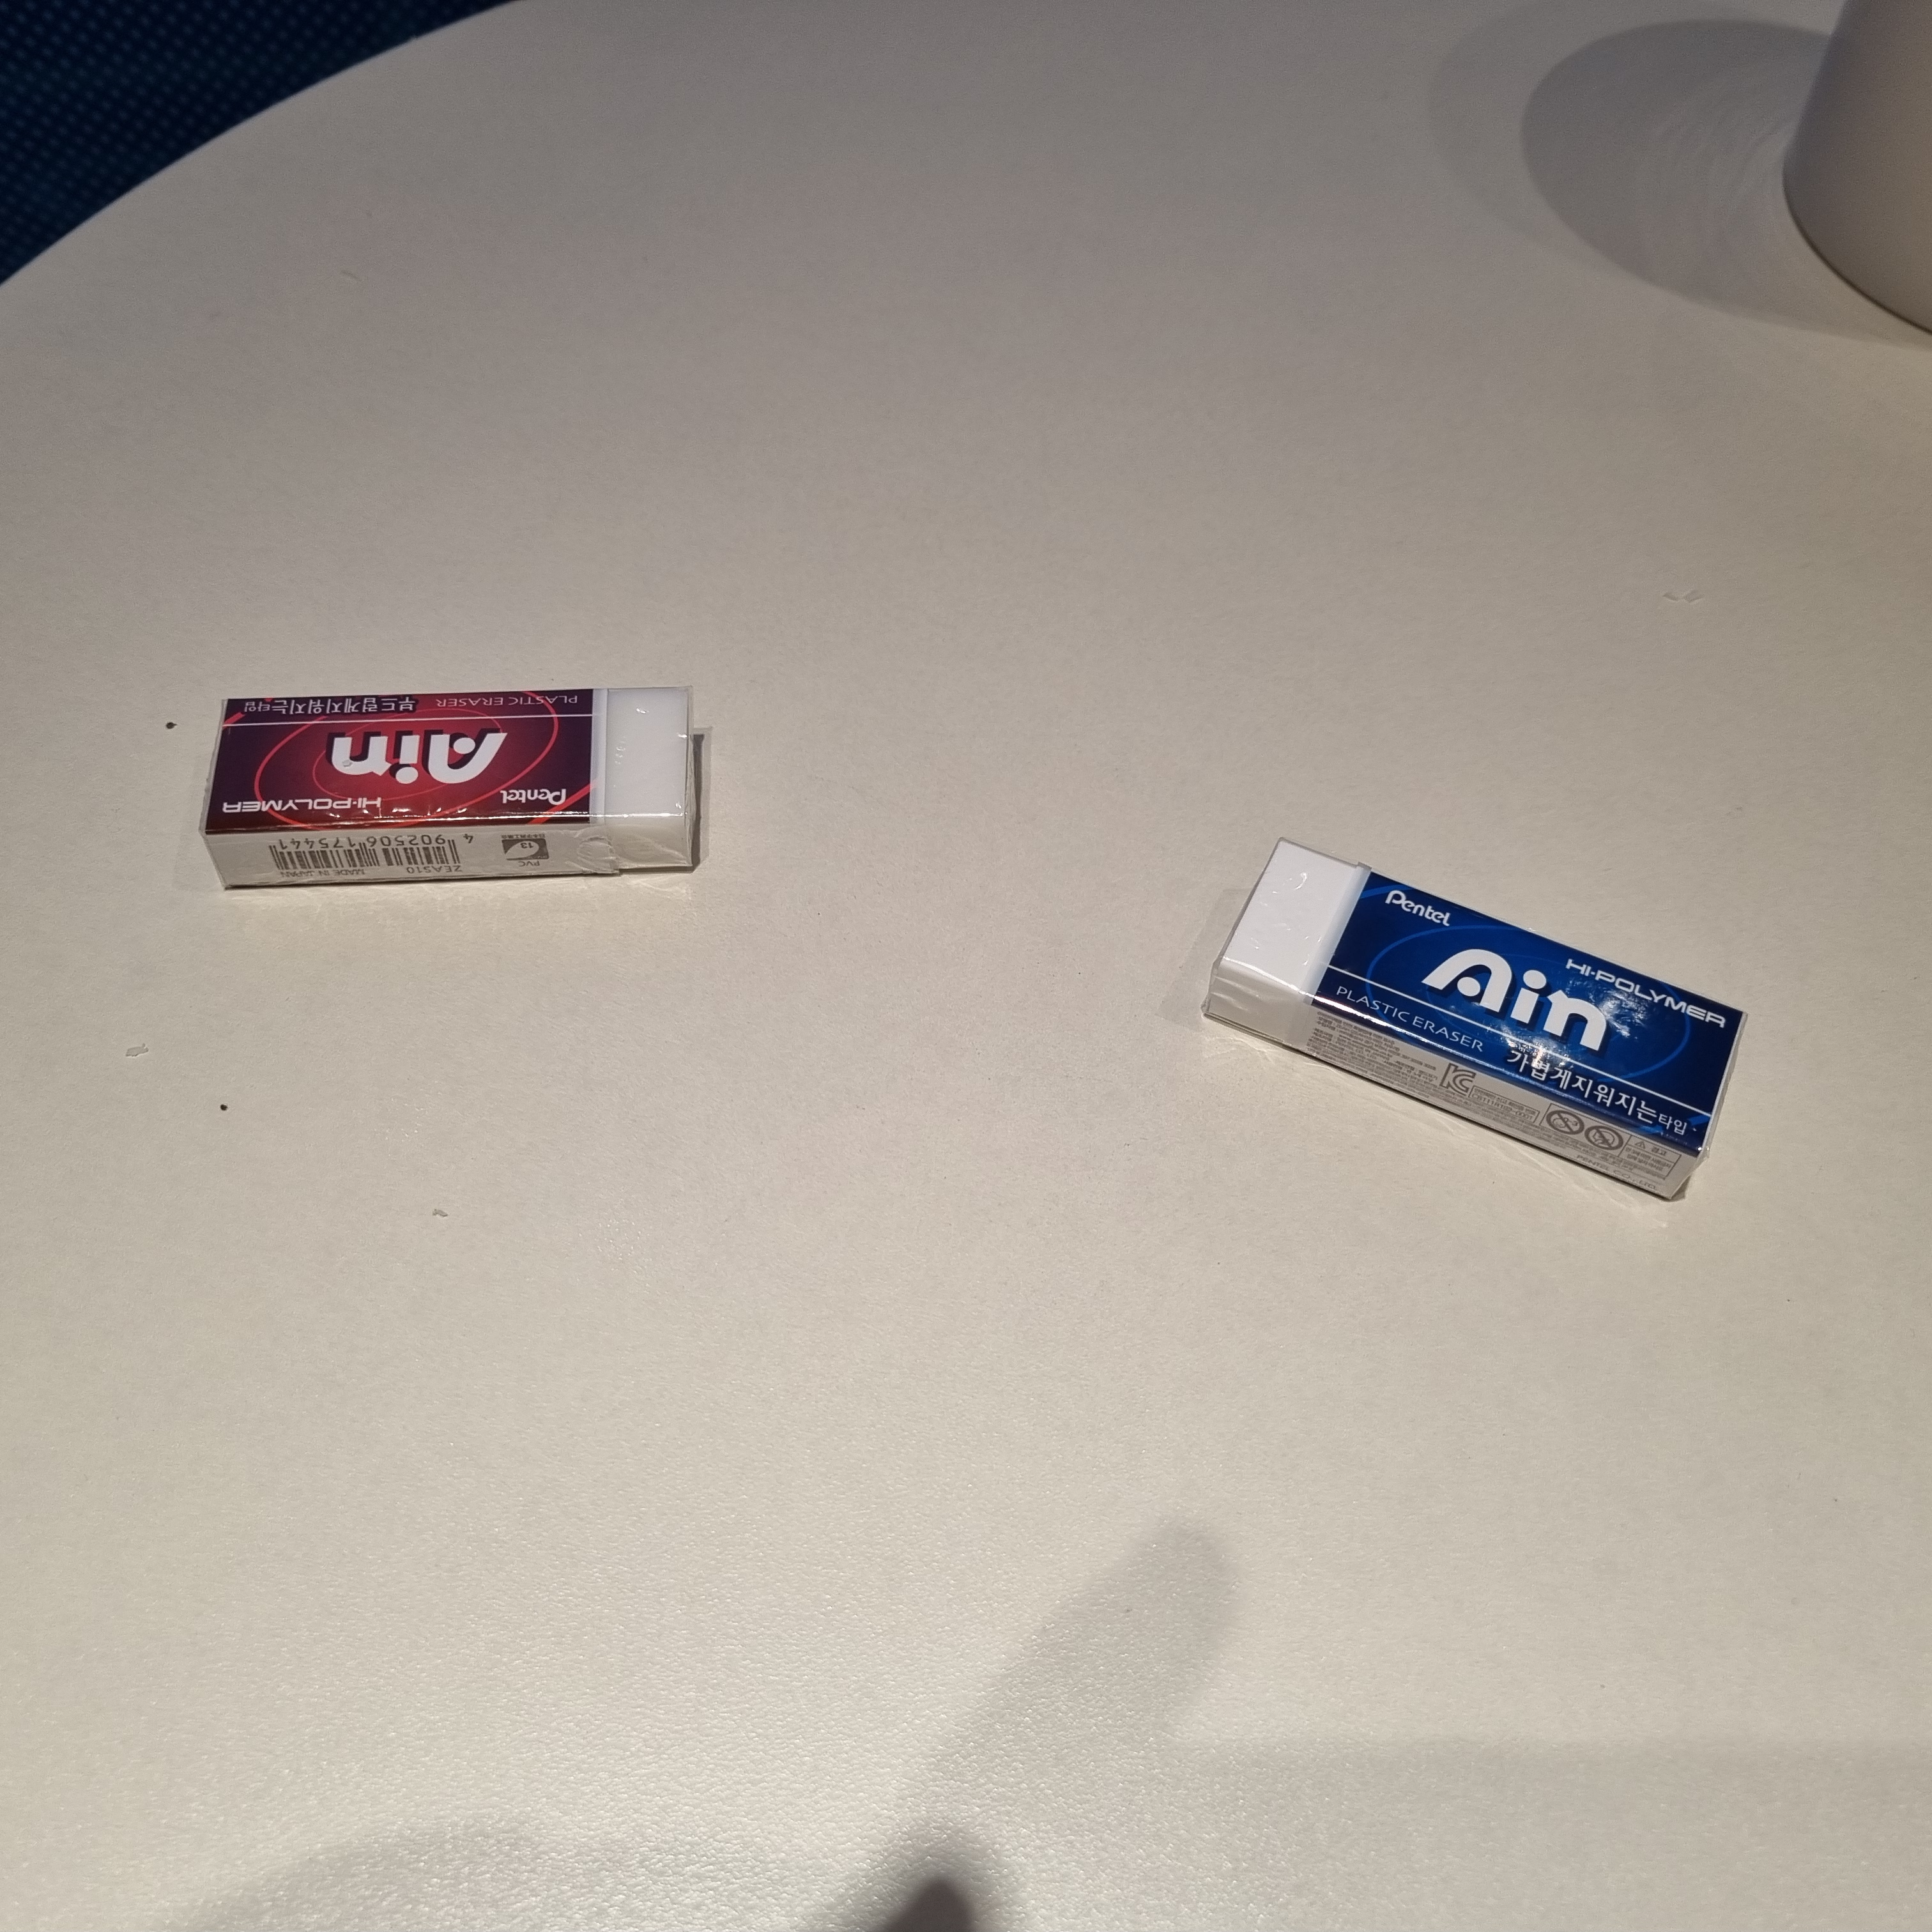blue: (1192, 824, 1760, 1223)
red: (189, 681, 711, 897)
